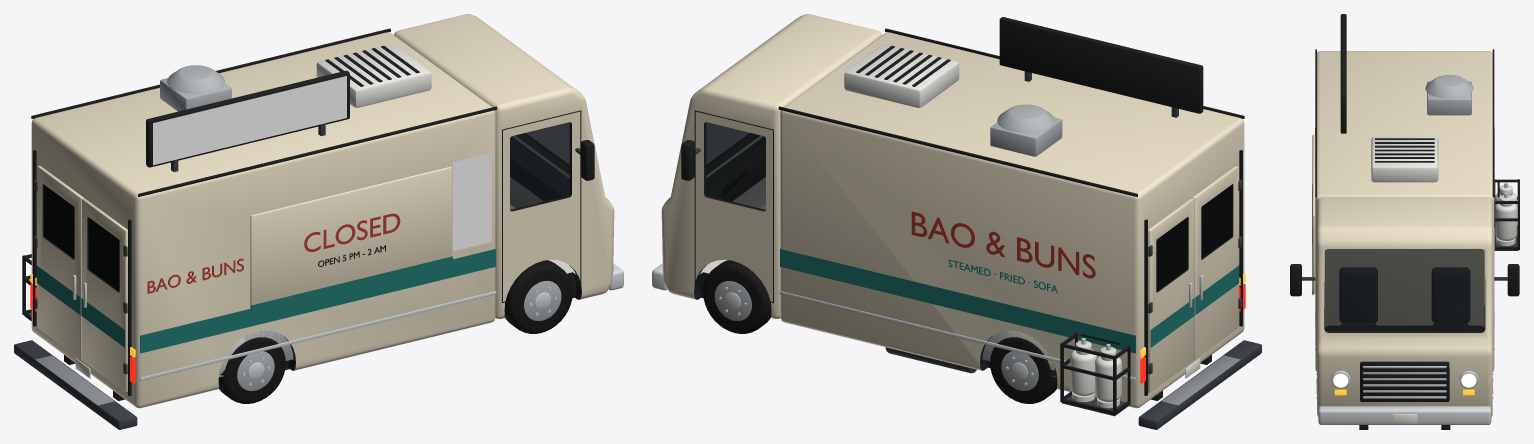
File: food-truck.glb
3 renders of one model, left to right at view 1: azimuth 30°, elevation 25°; view 2: azimuth 150°, elevation 25°; view 3: azimuth 270°, elevation 25°, orthographic. The views are drawn at different scales.
Visible parts, largest first — view 1: body, cab, hatch, roof, roof_sign, door_right, door_left, rear, glass_cab_right, wheel_fr, menu_board, wheel_rr (+2 smaller); view 2: body, cab, roof, door_left, door_right, rear, glass_cab_left, wheel_fl, wheel_rl, lettering, propane_cage, propane_b (+3 smaller); view 3: cab, body, glass_windshield, roof, propane_b, propane_cage, hatch.
Boxes of the visible parts, bbox=[...] form: body: bbox=[31, 28, 497, 408]; cab: bbox=[394, 14, 623, 319]; hatch: bbox=[250, 166, 452, 311]; roof: bbox=[146, 44, 431, 171]; roof_sign: bbox=[153, 76, 346, 165]; door_right: bbox=[81, 198, 127, 392]; door_left: bbox=[33, 165, 83, 359]; rear: bbox=[14, 150, 137, 429]; glass_cab_right: bbox=[510, 122, 569, 209]; wheel_fr: bbox=[504, 260, 572, 333]; menu_board: bbox=[453, 153, 491, 251]; wheel_rr: bbox=[218, 337, 285, 403]; body: bbox=[778, 28, 1244, 408]; cab: bbox=[652, 14, 881, 319]; roof: bbox=[844, 17, 1203, 156]; door_left: bbox=[1148, 198, 1194, 392]; door_right: bbox=[1192, 165, 1242, 359]; rear: bbox=[1138, 150, 1261, 429]; glass_cab_left: bbox=[705, 122, 765, 209]; wheel_fl: bbox=[703, 260, 771, 333]; wheel_rl: bbox=[990, 337, 1057, 403]; lettering: bbox=[911, 211, 1095, 293]; propane_cage: bbox=[1060, 332, 1130, 416]; propane_b: bbox=[1070, 338, 1096, 401]; cab: bbox=[1290, 197, 1519, 424]; body: bbox=[1315, 49, 1494, 371]; glass_windshield: bbox=[1325, 249, 1484, 330]; roof: bbox=[1340, 14, 1473, 182]; propane_b: bbox=[1495, 192, 1517, 245]; propane_cage: bbox=[1494, 179, 1519, 250]; hatch: bbox=[1312, 134, 1315, 295].
Bounding box in the file's own units: 6.55 × 3.65 × 3.08.
